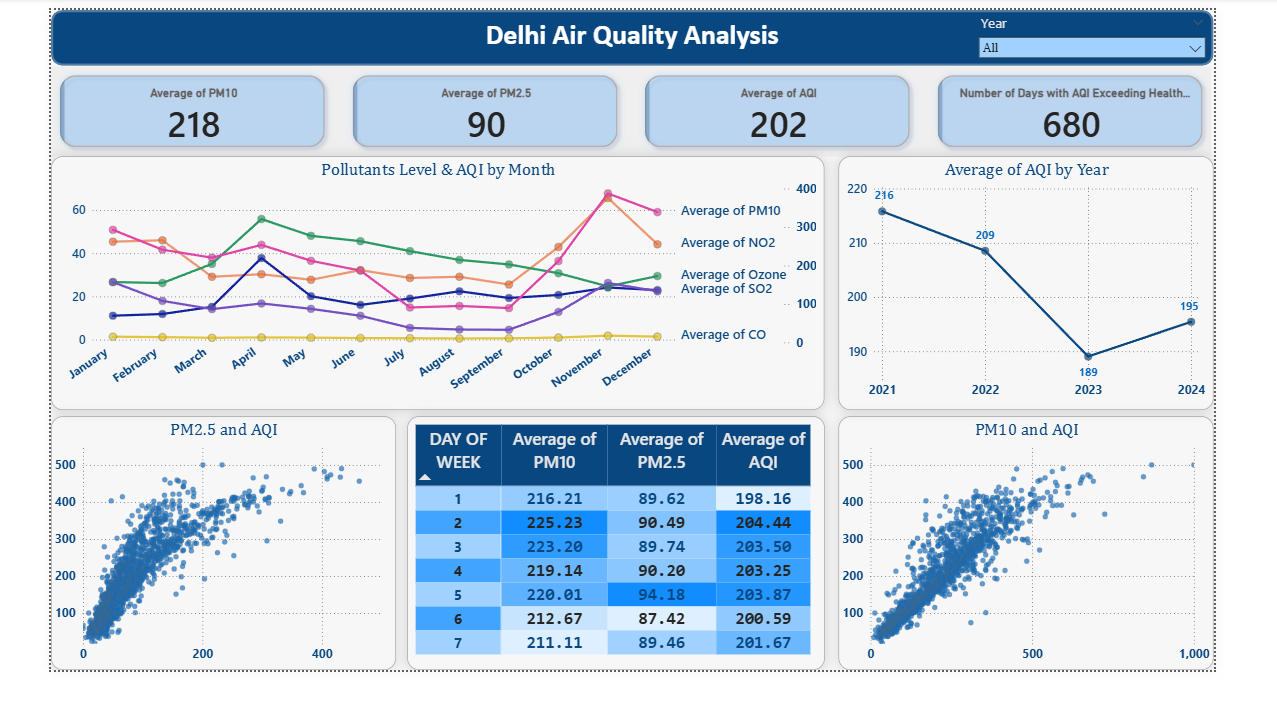

This screenshot's page, from the dashboard's own definition file:
{"tool":"powerbi","page":{"name":"Dashboard","canvas":[1550,880],"ordinal":0},"visuals":[{"type":"shape","box":[0,0,1550,74.3],"z":0},{"type":"textbox","box":[531.7,5,486.7,63.3],"z":1000},{"type":"cardVisual","fields":{"Data":["Avg(Pollutants_PM.PM10)","Avg(Pollutants_PM.PM2.5)","Avg(Pollutants_Gas.AQI)","Pollutants_Gas.Number of Days with AQI Exceeding Health Thresold"]},"box":[0,74.3,1550,120],"z":2000},{"type":"scatterChart","fields":{"X":["Pollutants_PM.PM2.5"],"Y":["Pollutants_Gas.AQI"]},"box":[0,541.4,460,338.6],"z":3000},{"type":"lineChart","title":"Pollutants Level & AQI by Month","fields":{"Category":["Date.Calender Date.Variation.Date Hierarchy.Month"],"Y":["Avg(Pollutants_Gas.NO2)","Avg(Pollutants_Gas.SO2)","Avg(Pollutants_Gas.Ozone)","Avg(Pollutants_Gas.CO)"],"Y2":["Avg(Pollutants_PM.PM10)","Avg(Pollutants_PM.PM2.5)"]},"box":[0,194.3,1031.4,338.6],"z":4000},{"type":"areaChart","fields":{"Y":["Avg(Pollutants_Gas.AQI)"],"Category":["Date.Year"]},"box":[1050,194.3,500,338.6],"z":5000},{"type":"scatterChart","fields":{"X":["Pollutants_PM.PM10"],"Y":["Pollutants_Gas.AQI"]},"box":[1050,541.4,500,338.6],"z":6000},{"type":"pivotTable","fields":{"Rows":["Date.DAY OF WEEK"],"Values":["Avg(Pollutants_PM.PM10)","Avg(Pollutants_PM.PM2.5)","Avg(Pollutants_Gas.AQI)"]},"box":[474.3,541.4,557.1,338.6],"z":7000},{"type":"slicer","fields":{"Values":["Date.Year"]},"box":[1227.1,1.4,322.9,70],"z":8000}]}

Visuals, with their boxes in screenshot pixels (x1, y1, x2, y2), scaled from the page's 1550x880 canvas onto the 1277x726 screenshot:
shape: box(0, 0, 1276, 61)
textbox: box(438, 4, 839, 56)
cardVisual - Avg(Pollutants_PM.PM10) x Avg(Pollutants_PM.PM2.5): box(0, 61, 1276, 160)
scatterChart - Pollutants_PM.PM2.5 x Pollutants_Gas.AQI: box(0, 447, 379, 725)
"Pollutants Level & AQI by Month" lineChart: box(0, 160, 850, 440)
areaChart - Avg(Pollutants_Gas.AQI) x Date.Year: box(865, 160, 1276, 440)
scatterChart - Pollutants_PM.PM10 x Pollutants_Gas.AQI: box(865, 447, 1276, 725)
pivotTable - Date.DAY OF WEEK x Avg(Pollutants_PM.PM10): box(391, 447, 850, 725)
slicer - Date.Year: box(1011, 1, 1276, 59)
